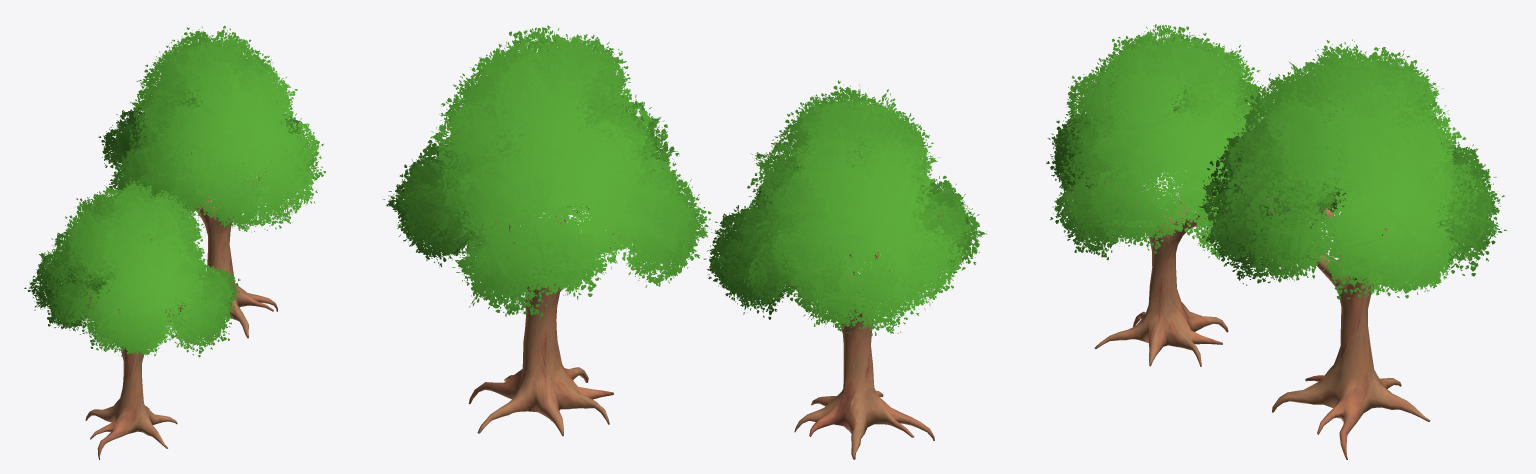
File: cell_x2_z-4_render.gltf
3 views of the same model, side by side, from view 1: azimuth 30°, elevation 25°; view 2: azimuth 150°, elevation 25°; view 3: azimuth 270°, elevation 25° (orthographic). The views are drawn at different scales.
Visible parts, largest first — view 1: SM_ENV_tree_castle_01_LOD0.013, SM_ENV_tree_castle_01_LOD0.006; view 2: SM_ENV_tree_castle_01_LOD0.013, SM_ENV_tree_castle_01_LOD0.006; view 3: SM_ENV_tree_castle_01_LOD0.013, SM_ENV_tree_castle_01_LOD0.006.
Boxes of the visible parts, bbox=[...] form: SM_ENV_tree_castle_01_LOD0.013: bbox=[98, 25, 325, 338]; SM_ENV_tree_castle_01_LOD0.006: bbox=[24, 177, 242, 459]; SM_ENV_tree_castle_01_LOD0.013: bbox=[382, 25, 712, 436]; SM_ENV_tree_castle_01_LOD0.006: bbox=[704, 80, 986, 459]; SM_ENV_tree_castle_01_LOD0.013: bbox=[1198, 39, 1506, 459]; SM_ENV_tree_castle_01_LOD0.006: bbox=[1046, 24, 1265, 366].
Bounding box in the file's own units: 23.35 × 20.46 × 21.56.
Materials: 2 (2 with a texture image).
